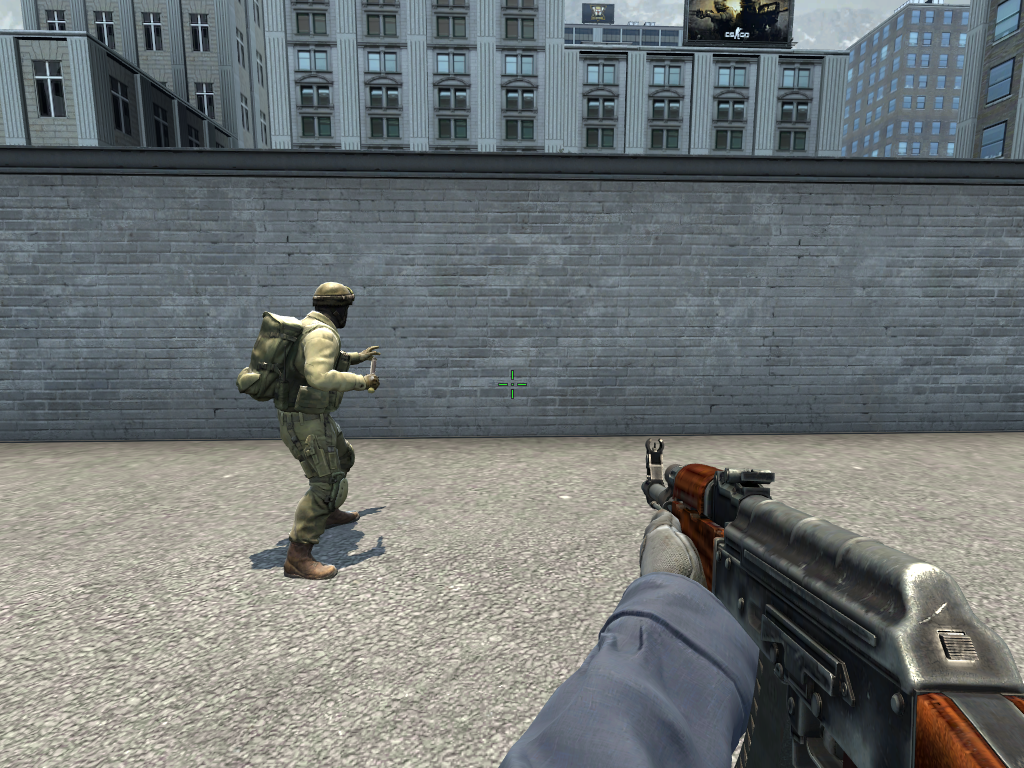ct head: (312, 278, 356, 330)
